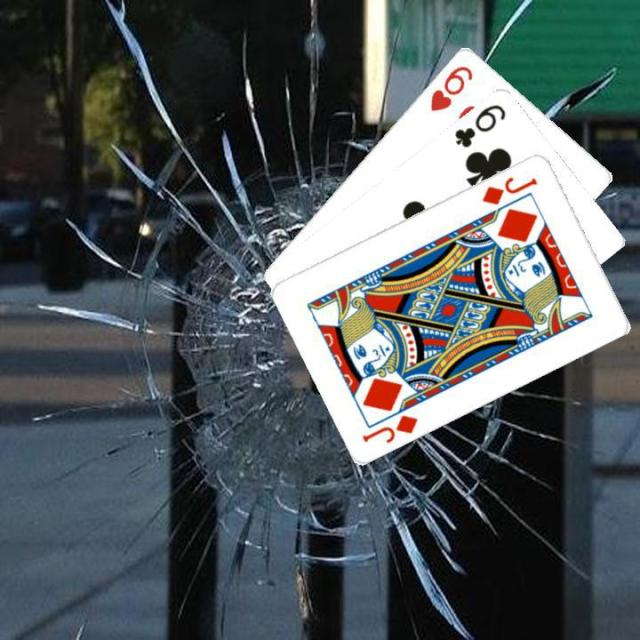6C: (451, 100, 508, 150)
6H: (426, 61, 474, 113)
JD: (478, 172, 540, 207), (358, 410, 421, 444)
